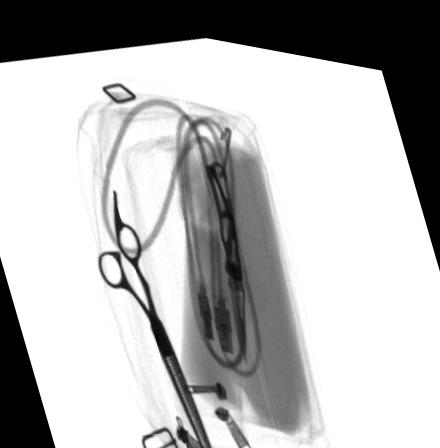Scissors: (97, 183, 213, 448)
